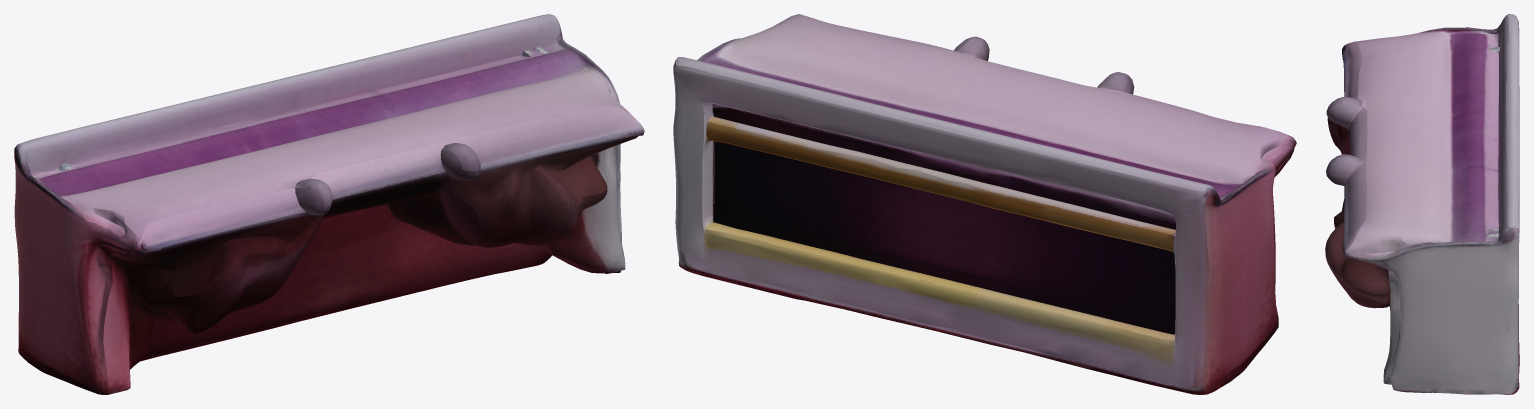
File: out_sim.glb
3 views of the same model, side by side, from view 1: azimuth 30°, elevation 25°; view 2: azimuth 150°, elevation 25°; view 3: azimuth 270°, elevation 25° (orthographic). The views are drawn at different scales.
Visible parts, largest first — view 1: world; view 2: world; view 3: world.
Boxes of the visible parts, box(x1,y1,x2,y2) form: world: box(14, 14, 644, 394); world: box(673, 14, 1296, 394); world: box(1325, 14, 1519, 394).
Size of the model in its own units: 1 by 0.377 by 0.3794.
Materials: 1 (1 with a texture image).
